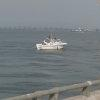Boat: (29, 31, 85, 58)
